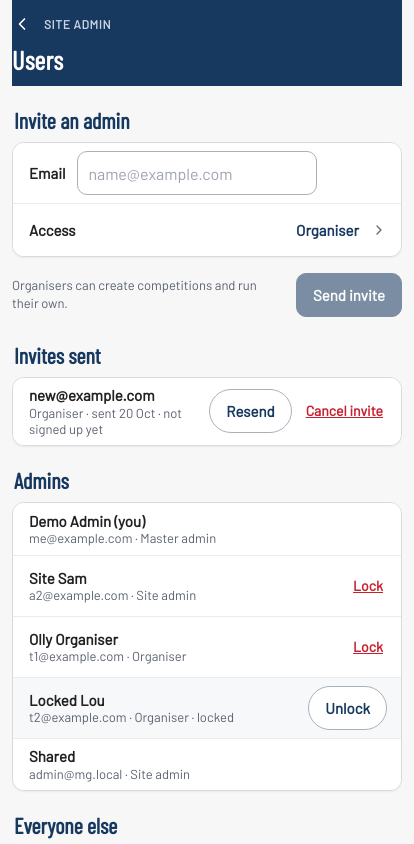
it: UsersPage › resends an invite, and cancels one after asking
Step 1. Click the button with aria-label "Resend the invite to new@example.com" → (250, 411), box [209, 389, 292, 433]
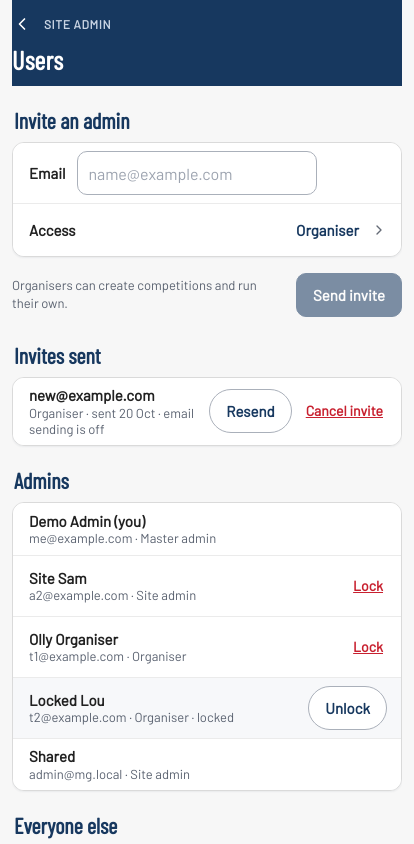
expect the text "Organiser · sent 20 Oct · email sending is off" is shown: met, box [29, 404, 197, 437]
Step 2. Click the button with aria-label "Cancel the invite to new@example.com" → (344, 411), box [302, 389, 387, 433]
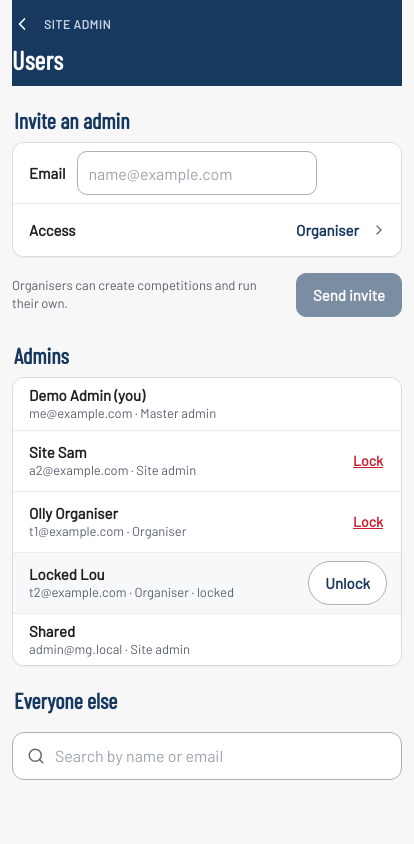
expect the text "new@example.com" is gone: met
